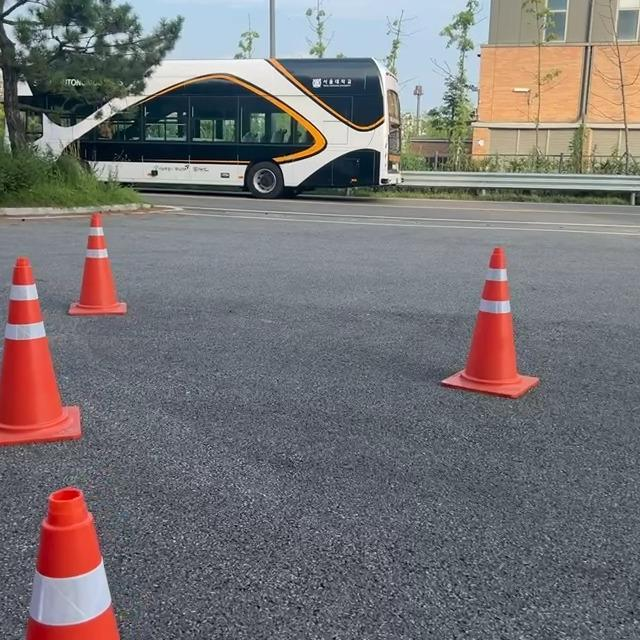fallen_object: (387, 225, 592, 434), (3, 481, 152, 640), (2, 252, 90, 472), (66, 199, 142, 329)
